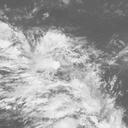cyclone: (29, 29, 101, 103)
